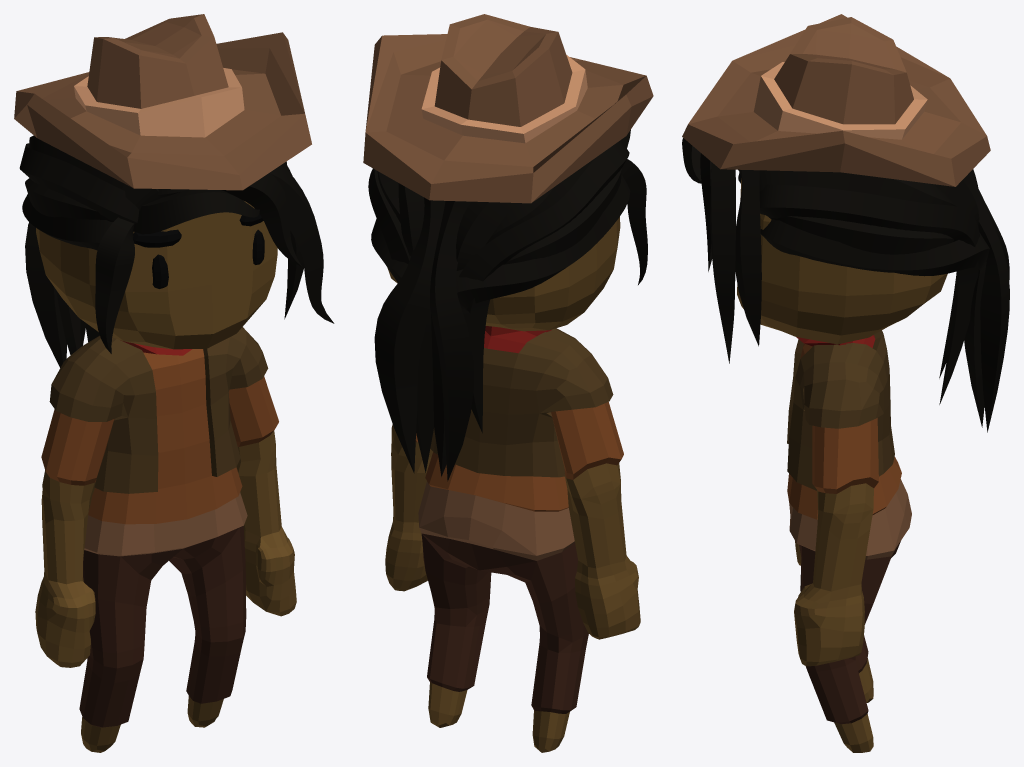
Rendered from Cowgirl.glb.
3 views of the same model, side by side, from view 1: azimuth 30°, elevation 25°; view 2: azimuth 150°, elevation 25°; view 3: azimuth 270°, elevation 25° (orthographic). The views are drawn at different scales.
Parts seen in each view (by area): view 1: Body_Cube.004; view 2: Body_Cube.004; view 3: Body_Cube.004.
Part boxes in pixels (box(x1,y1,x2,y2)): Body_Cube.004: box(14, 14, 334, 752); Body_Cube.004: box(363, 14, 653, 752); Body_Cube.004: box(682, 14, 1009, 752).
Bounding box in the file's own units: 1.34 × 3.48 × 1.51.
